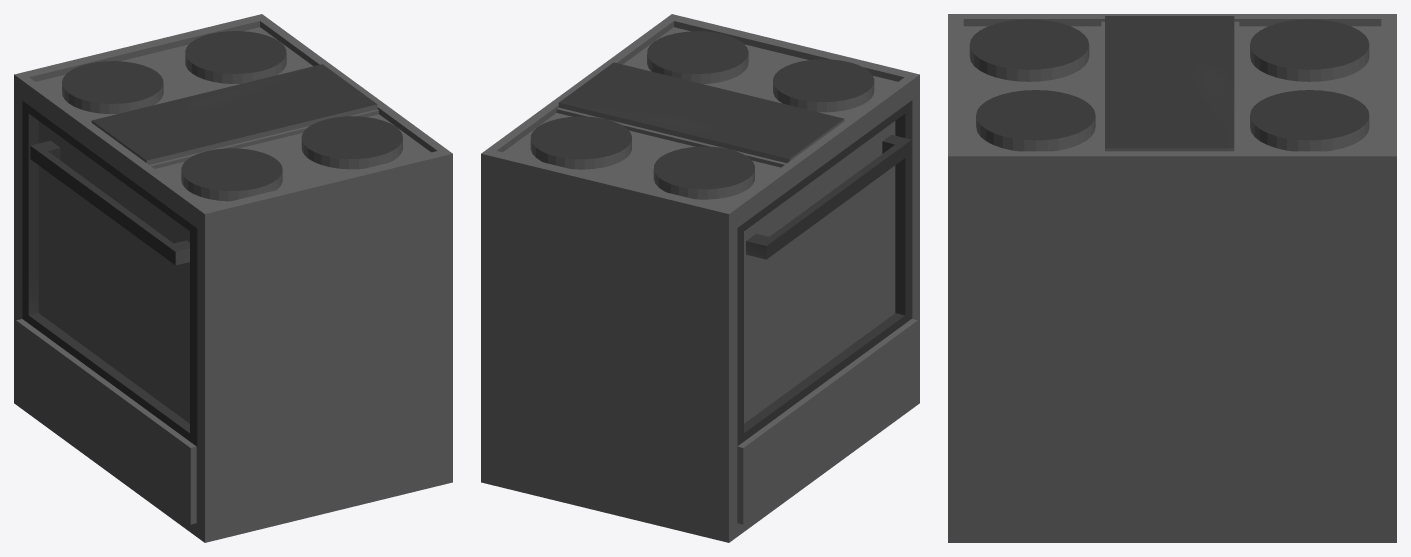
File: stove.fbx
3 renders of one model, left to right at view 1: azimuth 30°, elevation 25°; view 2: azimuth 150°, elevation 25°; view 3: azimuth 270°, elevation 25°, orthographic. The views are drawn at different scales.
Parts seen in each view (by area): view 1: Couch.001; view 2: Couch.001; view 3: Couch.001.
Boxes of the visible parts, x1,y1,x2,y2 form: Couch.001: (14, 14, 452, 542); Couch.001: (481, 14, 919, 542); Couch.001: (948, 14, 1396, 542).
Bounding box in the file's own units: 183 × 225 × 233.
Materials: 1 (1 with a texture image).
